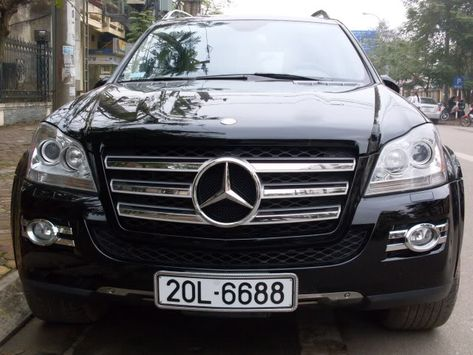number-plate: (155, 271, 300, 310)
